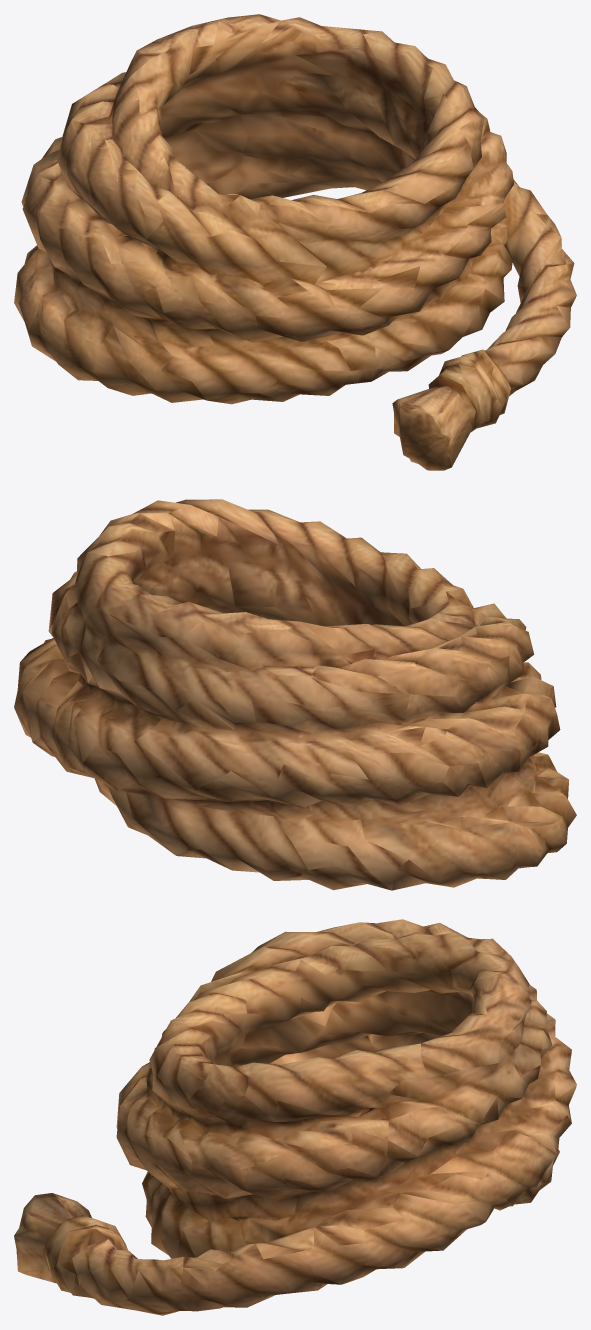
File: rope-coil.glb
3 views of the same model, one above another, from view 1: azimuth 30°, elevation 25°; view 2: azimuth 150°, elevation 25°; view 3: azimuth 270°, elevation 25° (orthographic). The views are drawn at different scales.
Visible parts, largest first — view 1: rope-coil; view 2: rope-coil; view 3: rope-coil.
Part boxes in pixels (x1,y1,x2,y2): rope-coil: (14,14,576,470); rope-coil: (14,499,576,890); rope-coil: (14,919,576,1315).
Size of the model in its own units: 0.7243 by 0.4199 by 0.7034.
1 material, 1 textured.
